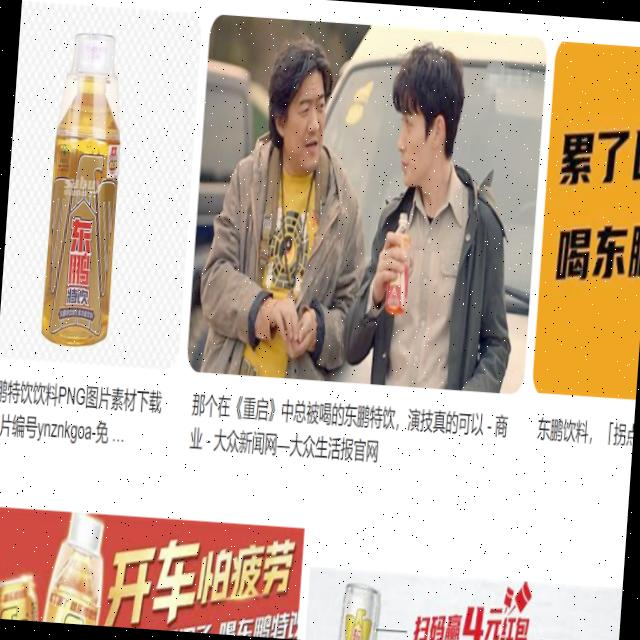dongpeng_special: (44, 152, 116, 337)
